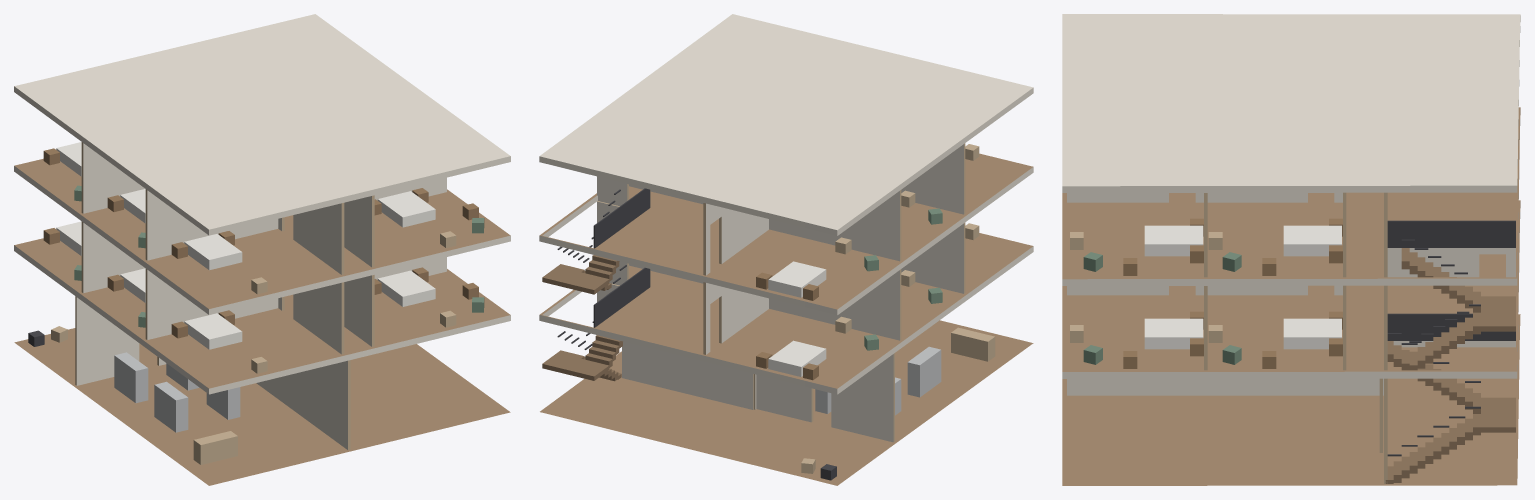
The model's file is interior.glb.
The picture shows the model from 3 angles, left to right: view 1: azimuth 30°, elevation 25°; view 2: azimuth 150°, elevation 25°; view 3: azimuth 270°, elevation 25°; orthographic projection. The views are drawn at different scales.
Parts seen in each view (by area): view 1: slabs, partitions, coarse-s2, coarse-s1, coarse-s0; view 2: slabs, partitions, stair, coarse-s0, coarse-s1, coarse-s2; view 3: slabs, stair, partitions, coarse-s1, coarse-s2.
Boxes of the visible parts, x1,y1,x2,y2 form: slabs: [14, 14, 510, 485]; partitions: [75, 142, 446, 449]; coarse-s2: [43, 142, 484, 294]; coarse-s1: [43, 221, 484, 373]; coarse-s0: [28, 326, 240, 464]; slabs: [539, 14, 1033, 485]; partitions: [597, 143, 965, 442]; stair: [542, 188, 650, 381]; coarse-s0: [801, 327, 995, 480]; coarse-s1: [756, 223, 979, 380]; coarse-s2: [756, 144, 979, 300]; slabs: [1062, 14, 1520, 485]; stair: [1385, 220, 1515, 483]; partitions: [1067, 192, 1515, 483]; coarse-s1: [1070, 311, 1342, 368]; coarse-s2: [1070, 218, 1342, 275].
Size of the model in its own units: 13.89 by 11.29 by 15.61.
